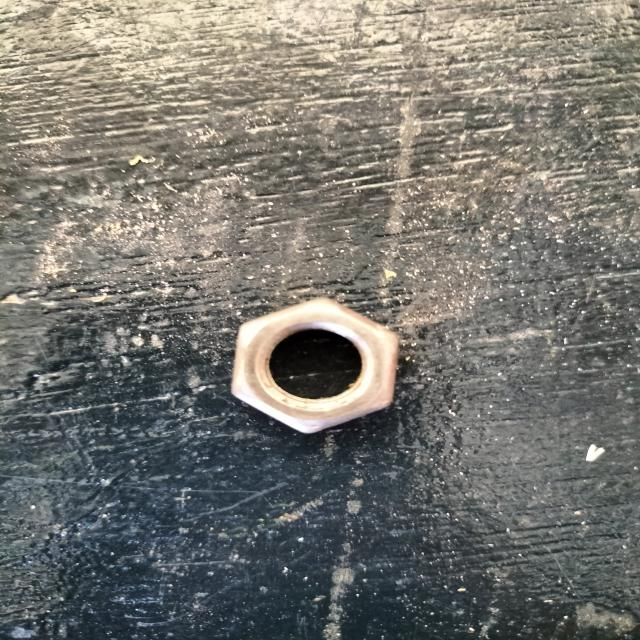nuts: (232, 298, 397, 434)
